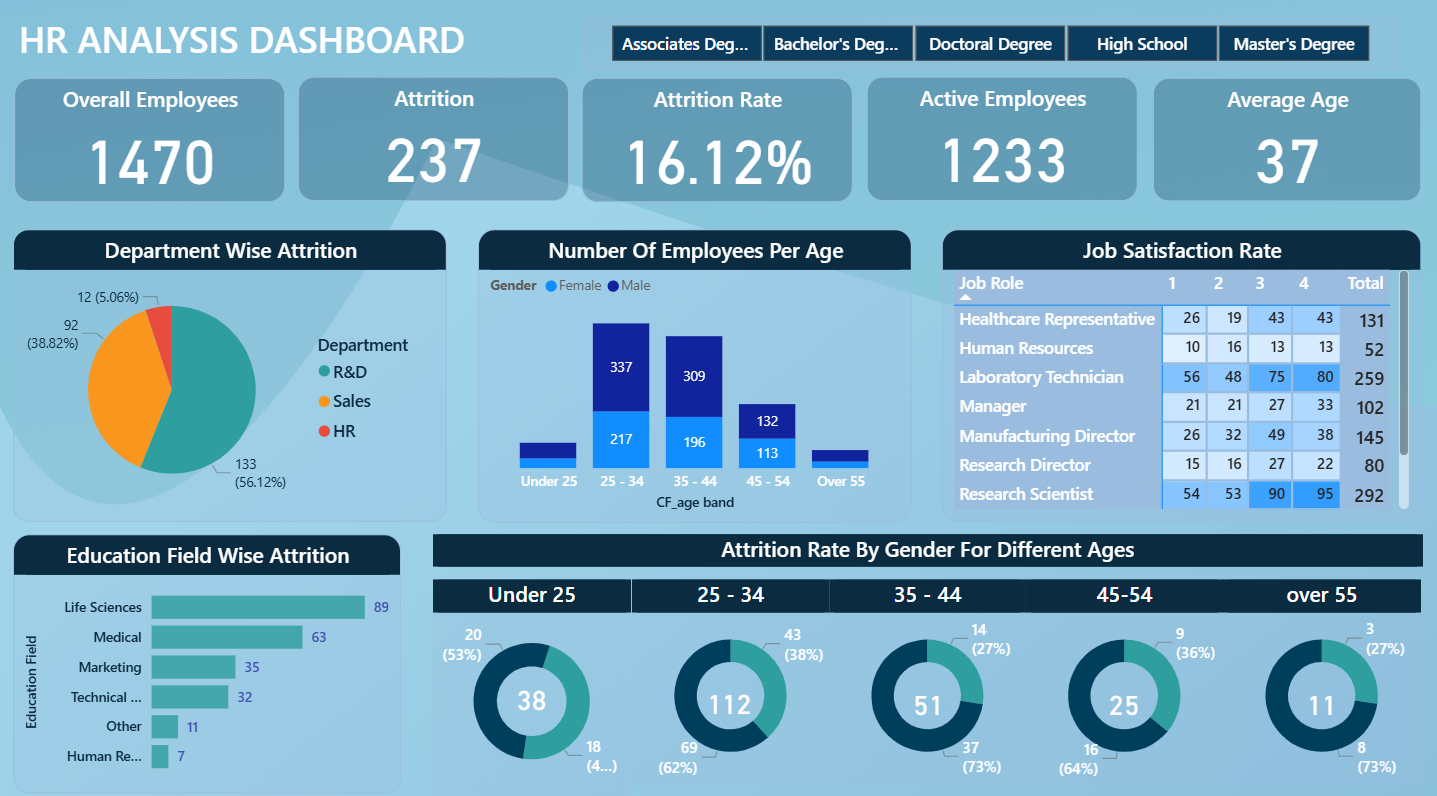

This screenshot's page, from the dashboard's own definition file:
{"tool":"powerbi","page":{"name":"Page 1","canvas":[1280,720],"ordinal":0},"visuals":[{"type":"card","title":"Overall Employees","fields":{"Values":["Sum(HR data.Employee Count)"]},"box":[14,70.9,240.7,110.5],"z":0},{"type":"card","title":"Attrition","fields":{"Values":["Sum(HR data.Attrition_count)"]},"box":[266.4,69.6,240.6,110.5],"z":1000},{"type":"card","title":"Attrition Rate","fields":{"Values":["HR data.Attrition Rate"]},"box":[519.1,71.1,240.6,110.5],"z":2000},{"type":"card","title":"Active Employees","fields":{"Values":["HR data.Active Employees"]},"box":[771.8,69.6,240.6,110.5],"z":3000},{"type":"card","title":"Average Age","fields":{"Values":["Avg(HR data.Age)"]},"box":[1026.7,70.9,238.4,109.3],"z":4000},{"type":"pieChart","title":"Department Wise Attrition","fields":{"Category":["HR data.Department"],"Y":["Sum(HR data.Attrition_count)"]},"box":[13.6,205.8,385.9,260.3],"z":5000},{"type":"columnChart","title":"Number Of Employees Per Age","fields":{"Category":["HR data.CF_age band"],"Series":["HR data.Gender"],"Y":["Sum(HR data.Employee Count)"]},"box":[426.7,205.6,385.6,261.1],"z":6000},{"type":"pivotTable","title":"Job Satisfaction Rate","fields":{"Rows":["HR data.Job Role"],"Columns":["HR data.Job Satisfaction"],"Values":["Sum(HR data.Employee Count)"]},"box":[838.4,205.8,426.8,260.3],"z":7000},{"type":"barChart","title":"Education Field Wise Attrition","fields":{"Category":["HR data.Education Field"],"Y":["Sum(HR data.Attrition_count)"]},"box":[13.6,476.7,345,230],"z":8000},{"type":"donutChart","title":"Under 25","fields":{"Category":["HR data.Gender"],"Y":["Sum(HR data.Attrition_count)"],"Series":["HR data.CF_age band"]},"box":[387.1,516.8,175.9,192.4],"z":9000},{"type":"textbox","title":"Attrition Rate By Gender For Different Ages","box":[387.1,477.2,879.7,28.6],"z":10000},{"type":"donutChart","title":"25 - 34","fields":{"Category":["HR data.Gender"],"Y":["Sum(HR data.Attrition_count)"],"Series":["HR data.CF_age band"]},"box":[563,516.8,175.9,182.5],"z":11000},{"type":"donutChart","title":"35 - 44","fields":{"Category":["HR data.Gender"],"Y":["Sum(HR data.Attrition_count)"],"Series":["HR data.CF_age band"]},"box":[738.9,516.8,174.8,182.5],"z":12000},{"type":"donutChart","title":"45-54","fields":{"Category":["HR data.Gender"],"Y":["Sum(HR data.Attrition_count)"],"Series":["HR data.CF_age band"]},"box":[913.7,516.8,175.9,182.5],"z":13000},{"type":"donutChart","title":"over 55","fields":{"Category":["HR data.Gender"],"Y":["Sum(HR data.Attrition_count)"],"Series":["HR data.CF_age band"]},"box":[1088.6,516.8,175.9,182.5],"z":14000},{"type":"card","fields":{"Values":["Sum(HR data.Attrition_count)"]},"box":[435.8,593.2,78,60],"z":15000},{"type":"card","fields":{"Values":["Sum(HR data.Attrition_count)"]},"box":[611.4,598.2,78.1,59.4],"z":16000},{"type":"card","fields":{"Values":["Sum(HR data.Attrition_count)"]},"box":[787.3,599.3,78.1,59.4],"z":17000},{"type":"card","fields":{"Values":["Sum(HR data.Attrition_count)"]},"box":[962.1,599.3,78.1,59.4],"z":18000},{"type":"card","fields":{"Values":["Sum(HR data.Attrition_count)"]},"box":[1138.1,599.3,78.1,59.4],"z":19000},{"type":"textbox","box":[12.8,10.5,461.6,59.3],"z":20000},{"type":"slicer","fields":{"Values":["HR data.Education"]},"box":[518.6,16.3,724.4,47.7],"z":21000}]}

Visuals, with their boxes in screenshot pixels (x1, y1, x2, y2), scaled from the page's 1280x720 canvas onto the 1437x796 screenshot:
"Overall Employees" card: box=[16, 78, 286, 201]
"Attrition" card: box=[299, 77, 569, 199]
"Attrition Rate" card: box=[583, 79, 853, 201]
"Active Employees" card: box=[866, 77, 1137, 199]
"Average Age" card: box=[1153, 78, 1420, 199]
"Department Wise Attrition" pieChart: box=[15, 228, 449, 515]
"Number Of Employees Per Age" columnChart: box=[479, 227, 912, 516]
"Job Satisfaction Rate" pivotTable: box=[941, 228, 1420, 515]
"Education Field Wise Attrition" barChart: box=[15, 527, 403, 781]
"Under 25" donutChart: box=[435, 571, 632, 784]
"Attrition Rate By Gender For Different Ages" textbox: box=[435, 528, 1422, 559]
"25 - 34" donutChart: box=[632, 571, 830, 773]
"35 - 44" donutChart: box=[830, 571, 1026, 773]
"45-54" donutChart: box=[1026, 571, 1223, 773]
"over 55" donutChart: box=[1222, 571, 1420, 773]
card - Sum(HR data.Attrition_count): box=[489, 656, 577, 722]
card - Sum(HR data.Attrition_count): box=[686, 661, 774, 727]
card - Sum(HR data.Attrition_count): box=[884, 663, 972, 728]
card - Sum(HR data.Attrition_count): box=[1080, 663, 1168, 728]
card - Sum(HR data.Attrition_count): box=[1278, 663, 1365, 728]
textbox: box=[14, 12, 533, 77]
slicer - HR data.Education: box=[582, 18, 1395, 71]
